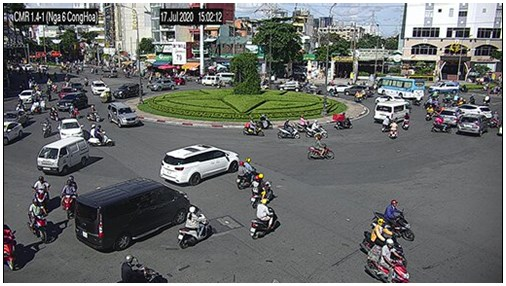xe_buyt: (375, 77, 425, 99)
xe_hoi: (77, 176, 191, 253), (160, 145, 240, 185), (36, 137, 88, 175), (107, 102, 140, 128), (458, 114, 487, 137), (3, 121, 24, 147), (460, 103, 492, 120), (59, 119, 86, 138), (58, 93, 87, 110), (428, 81, 459, 96), (112, 83, 144, 97), (441, 107, 461, 126), (344, 84, 372, 96), (151, 78, 175, 91), (89, 80, 108, 95), (18, 89, 38, 103), (326, 83, 354, 93), (277, 80, 300, 92), (201, 75, 220, 86), (59, 88, 73, 98)
xe_khach: (375, 101, 408, 123)
xe_may: (363, 219, 407, 271), (364, 238, 410, 283), (371, 200, 415, 242), (178, 205, 214, 248), (118, 254, 168, 283), (249, 198, 279, 241), (29, 198, 49, 243), (251, 173, 274, 209), (306, 134, 335, 161), (2, 223, 17, 272), (237, 157, 259, 189), (88, 122, 113, 149), (62, 175, 76, 219), (430, 112, 454, 136), (277, 119, 301, 141), (244, 116, 265, 140), (35, 176, 50, 206), (306, 119, 328, 139), (332, 112, 352, 131), (86, 105, 102, 122), (258, 115, 274, 130), (388, 120, 400, 140), (67, 103, 81, 120), (42, 117, 52, 139), (29, 99, 42, 114), (49, 105, 59, 122), (401, 112, 409, 132), (15, 97, 26, 111), (381, 115, 390, 132), (425, 104, 433, 120)
